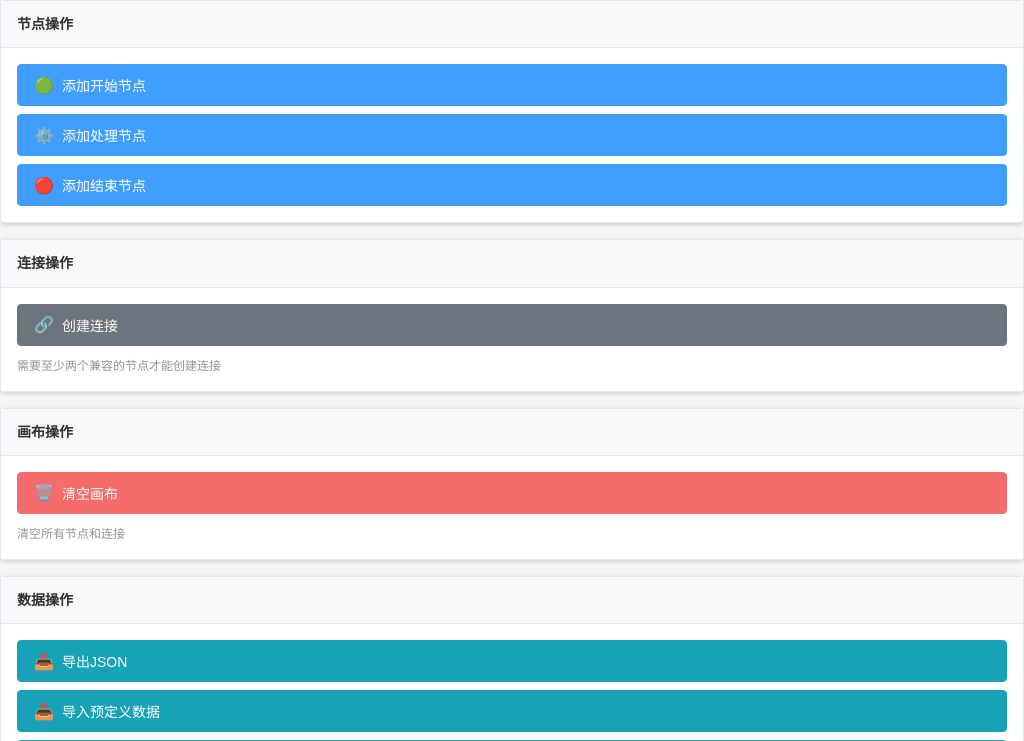
Test case: ControlPanel › should show confirmation dialog when clear canvas button is clicked
Click the button "🗑️ 清空画布".
click(90, 494)  # box left=17, top=472, right=1007, bottom=514
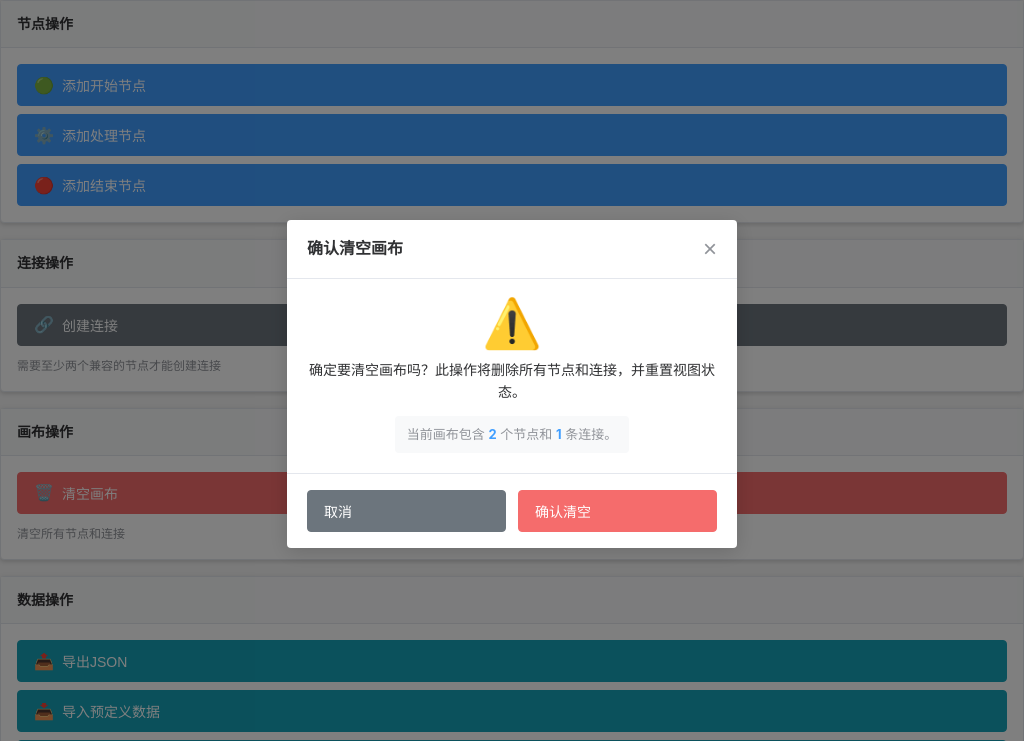
Now the text "确认清空画布" is shown, box left=307, top=236, right=403, bottom=262
Now the text "2 个节点" is shown, box left=395, top=416, right=629, bottom=453
Now the text "1 条连接" is shown, box left=395, top=416, right=629, bottom=453
